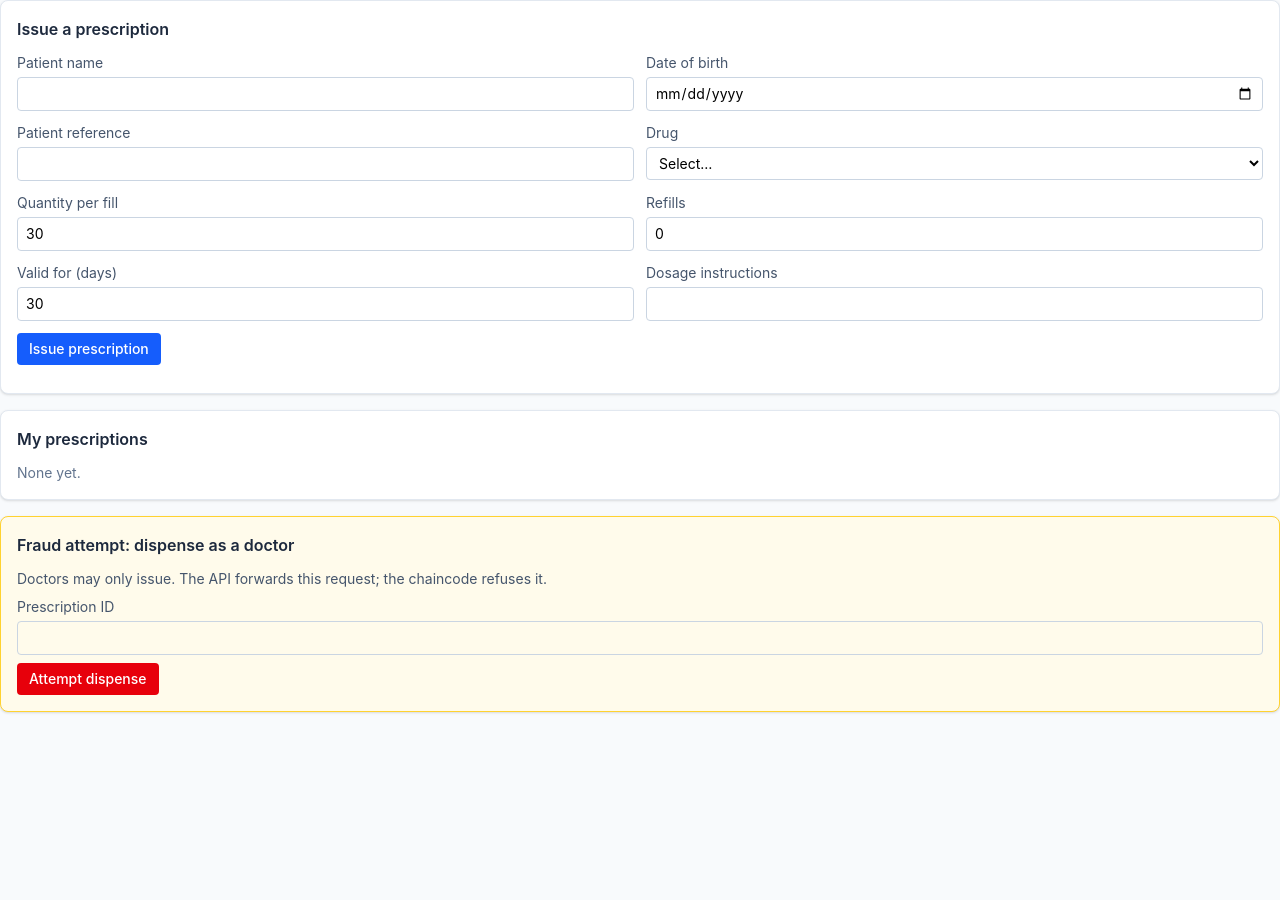
Scenario: DoctorView › cross-role attempt: dispensing as a doctor is shown as a chaincode rejection
Type "11111111-2222-4333-8444-555555555555" into the field labelled "Prescription ID" at (640, 638), box [17,621,1263,655]
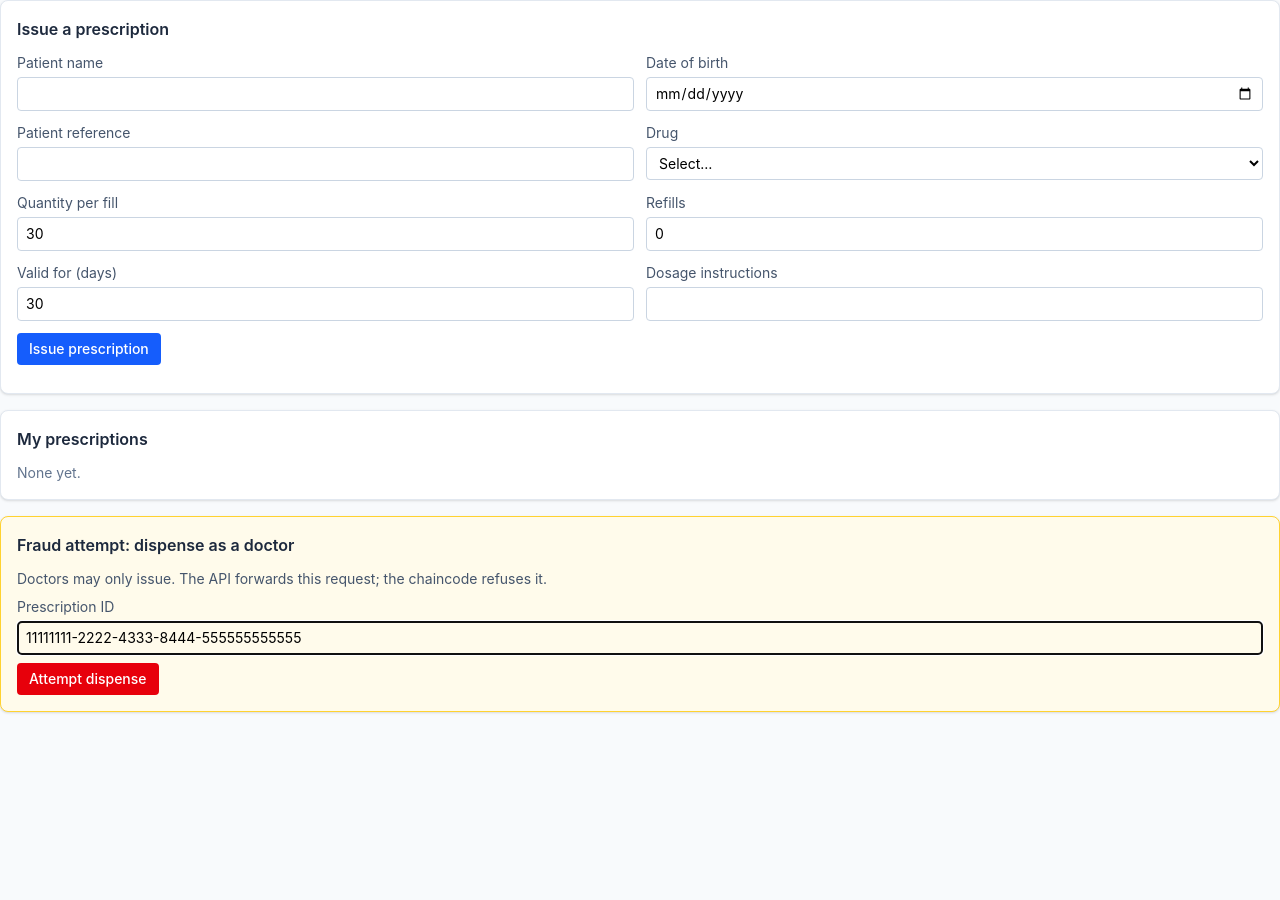
Click the button "Attempt dispense" at (88, 679), box [17,663,159,695]
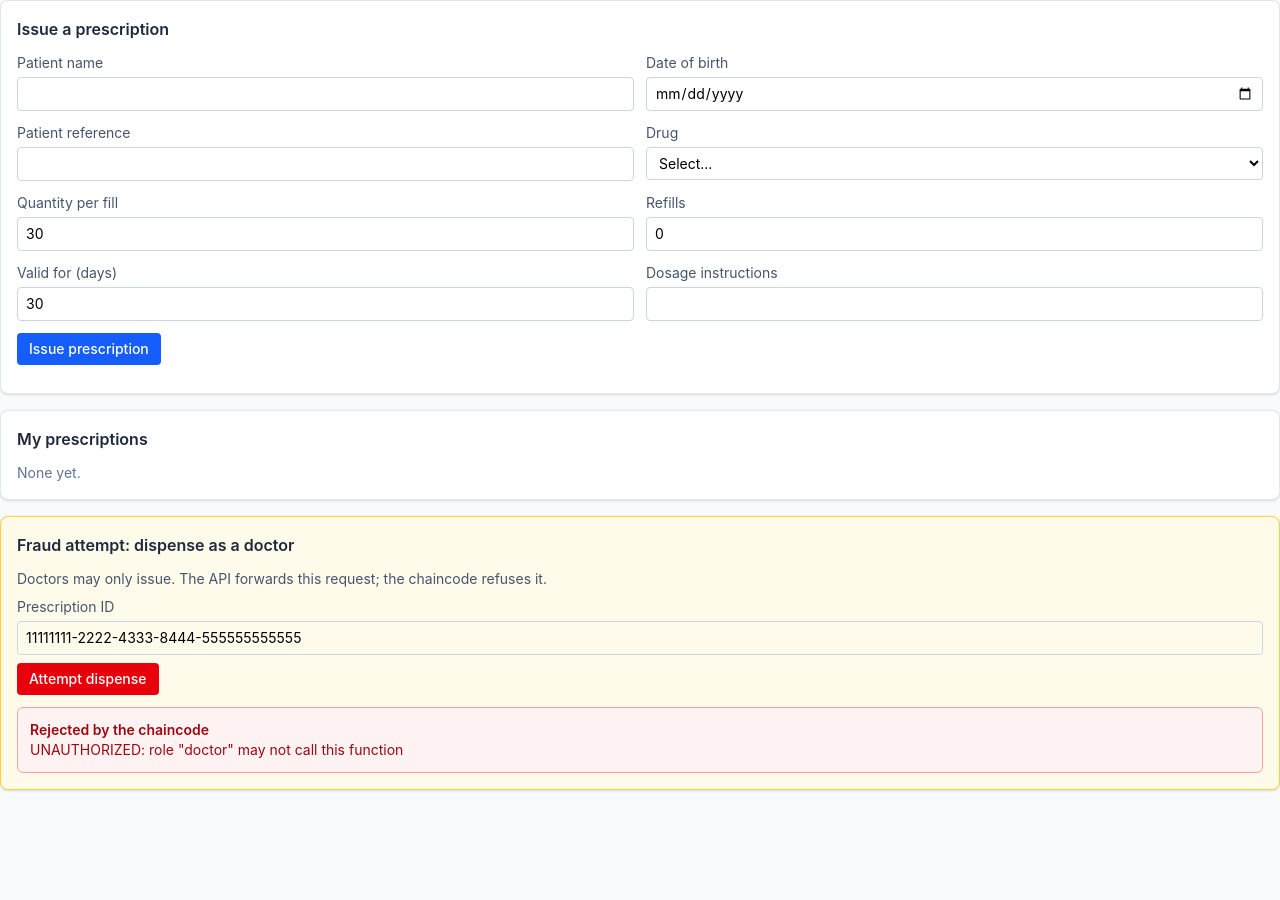
Expected: the message shows "Rejected by the chaincode", [30,721,209,738]
Expected: the message shows "may not call this function", [30,741,403,758]
